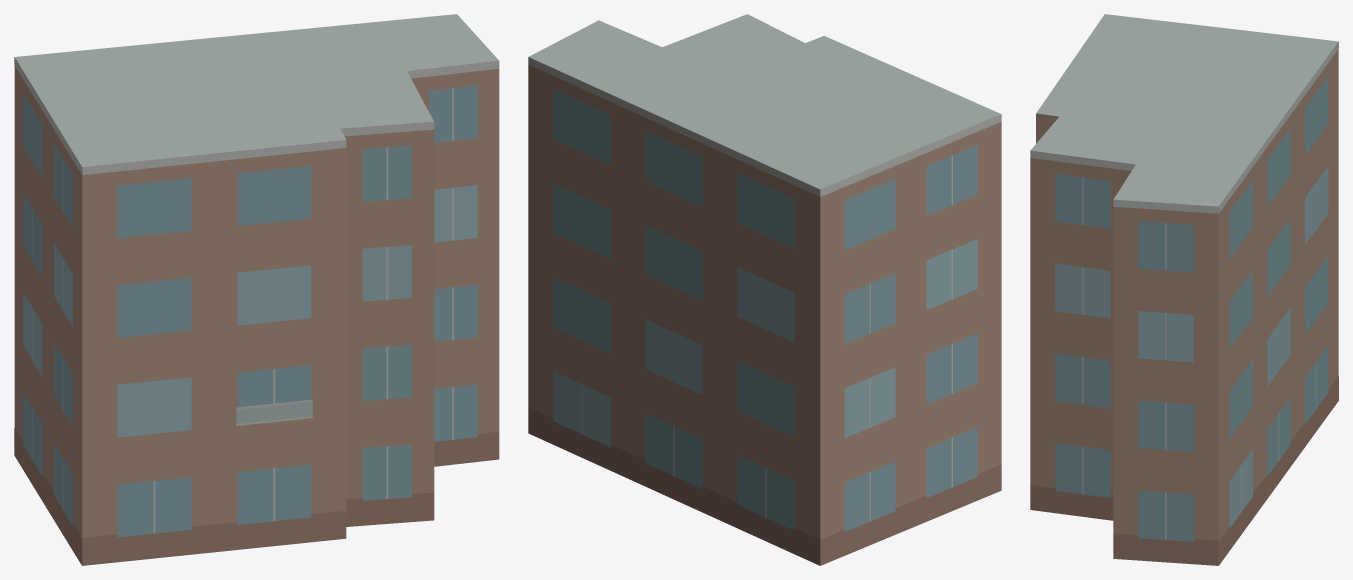
Rendered from survey-upis-32468875.glb.
The picture shows the model from 3 angles, left to right: view 1: azimuth 30°, elevation 25°; view 2: azimuth 150°, elevation 25°; view 3: azimuth 270°, elevation 25°; orthographic projection. The views are drawn at different scales.
Parts seen in each view (by area): view 1: survey-upis-32468875.tmp; view 2: survey-upis-32468875.tmp; view 3: survey-upis-32468875.tmp.
Part boxes in pixels (bbox=[...]): survey-upis-32468875.tmp: bbox=[14, 14, 499, 565]; survey-upis-32468875.tmp: bbox=[528, 14, 1001, 565]; survey-upis-32468875.tmp: bbox=[1030, 14, 1338, 565].
Size of the model in its own units: 14.04 by 12.2 by 9.51.
